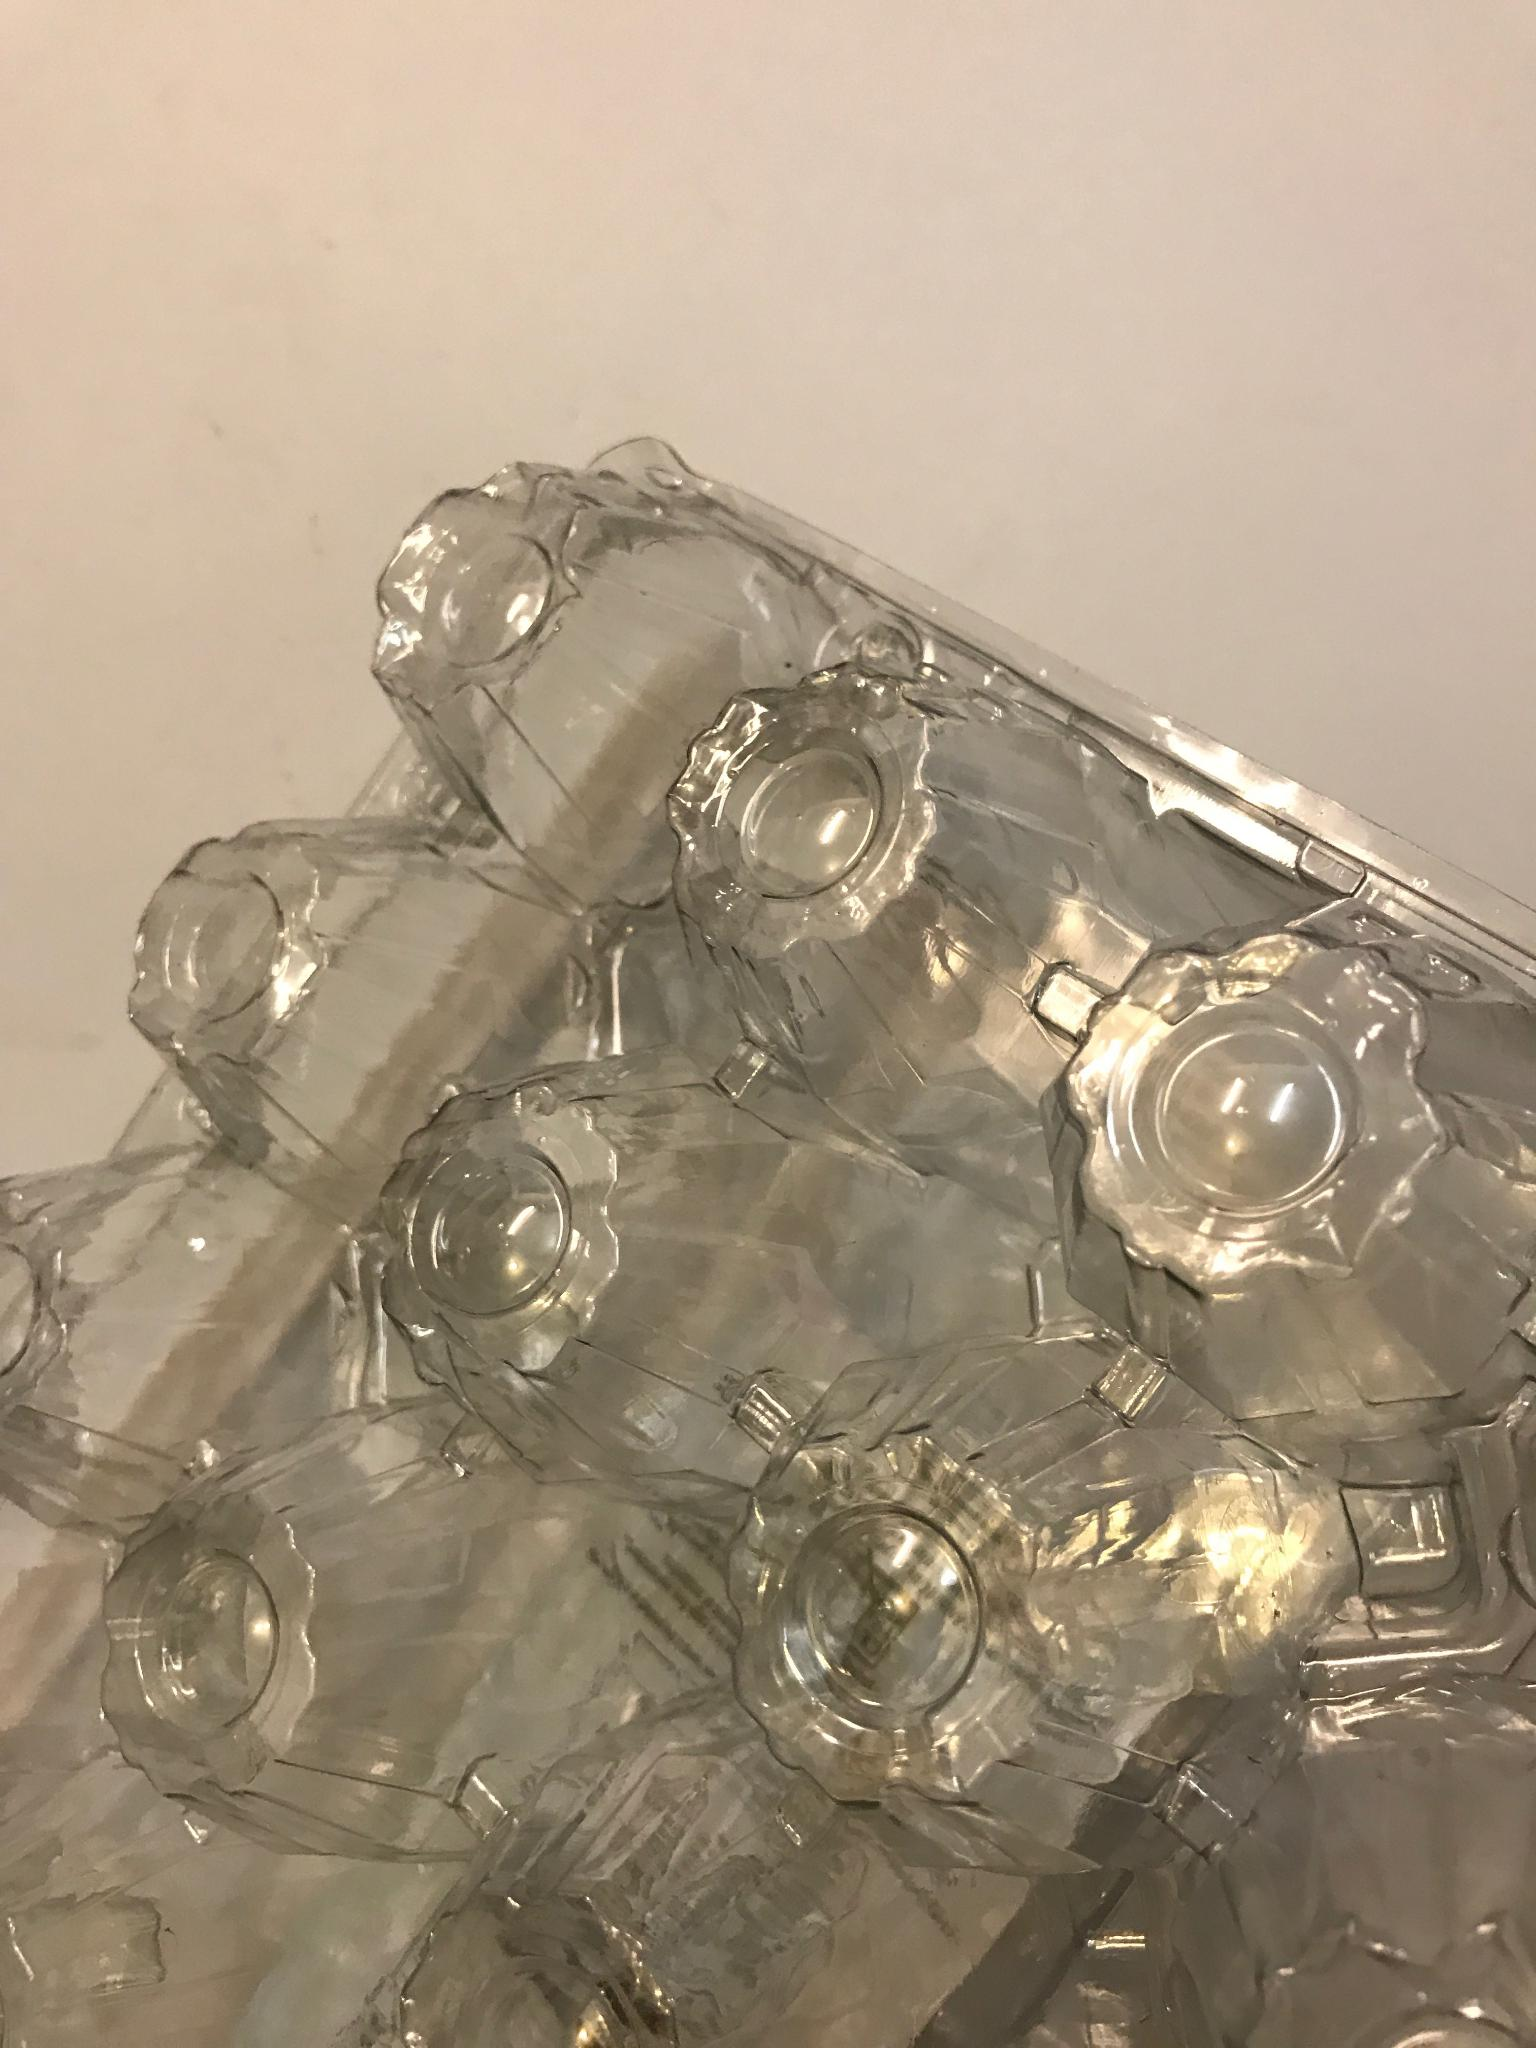Plastic: (2, 416, 1521, 2046)
